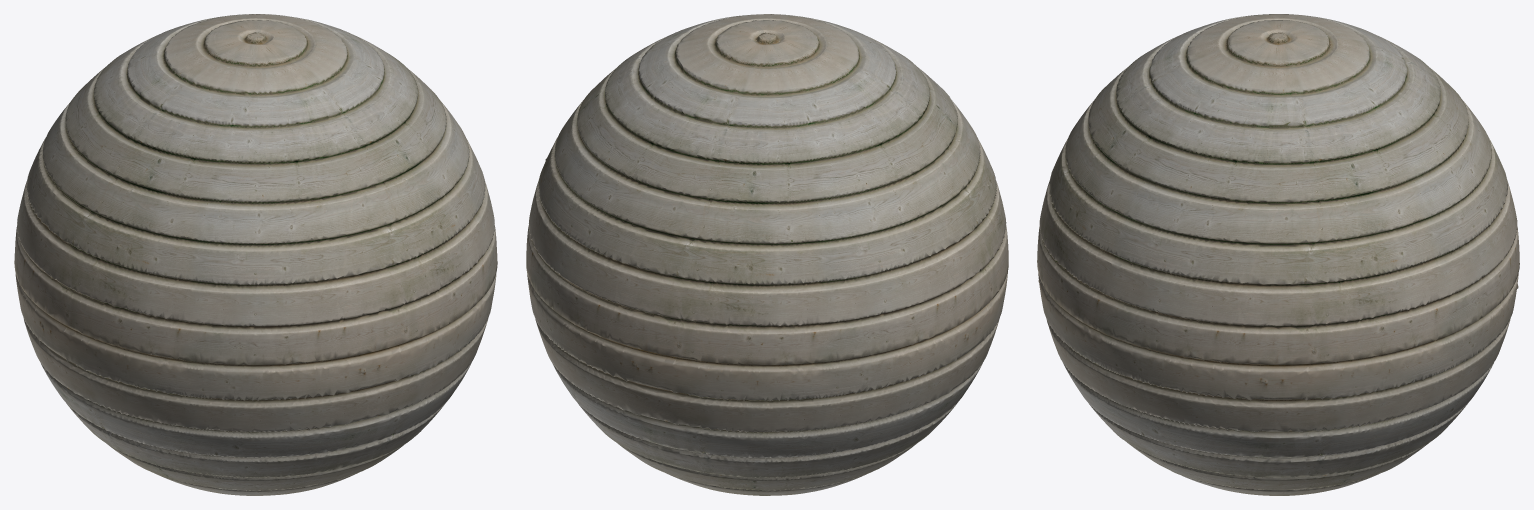
The model's file is brown_planks_05_4k.gltf.
3 renders of one model, left to right at view 1: azimuth 30°, elevation 25°; view 2: azimuth 150°, elevation 25°; view 3: azimuth 270°, elevation 25°, orthographic.
Visible parts, largest first — view 1: sphere_gltf; view 2: sphere_gltf; view 3: sphere_gltf.
Boxes of the visible parts, bbox=[...] form: sphere_gltf: bbox=[14, 14, 497, 495]; sphere_gltf: bbox=[526, 14, 1008, 495]; sphere_gltf: bbox=[1037, 14, 1519, 495].
Size of the model in its own units: 1 by 1 by 1.
1 material, 1 textured.
